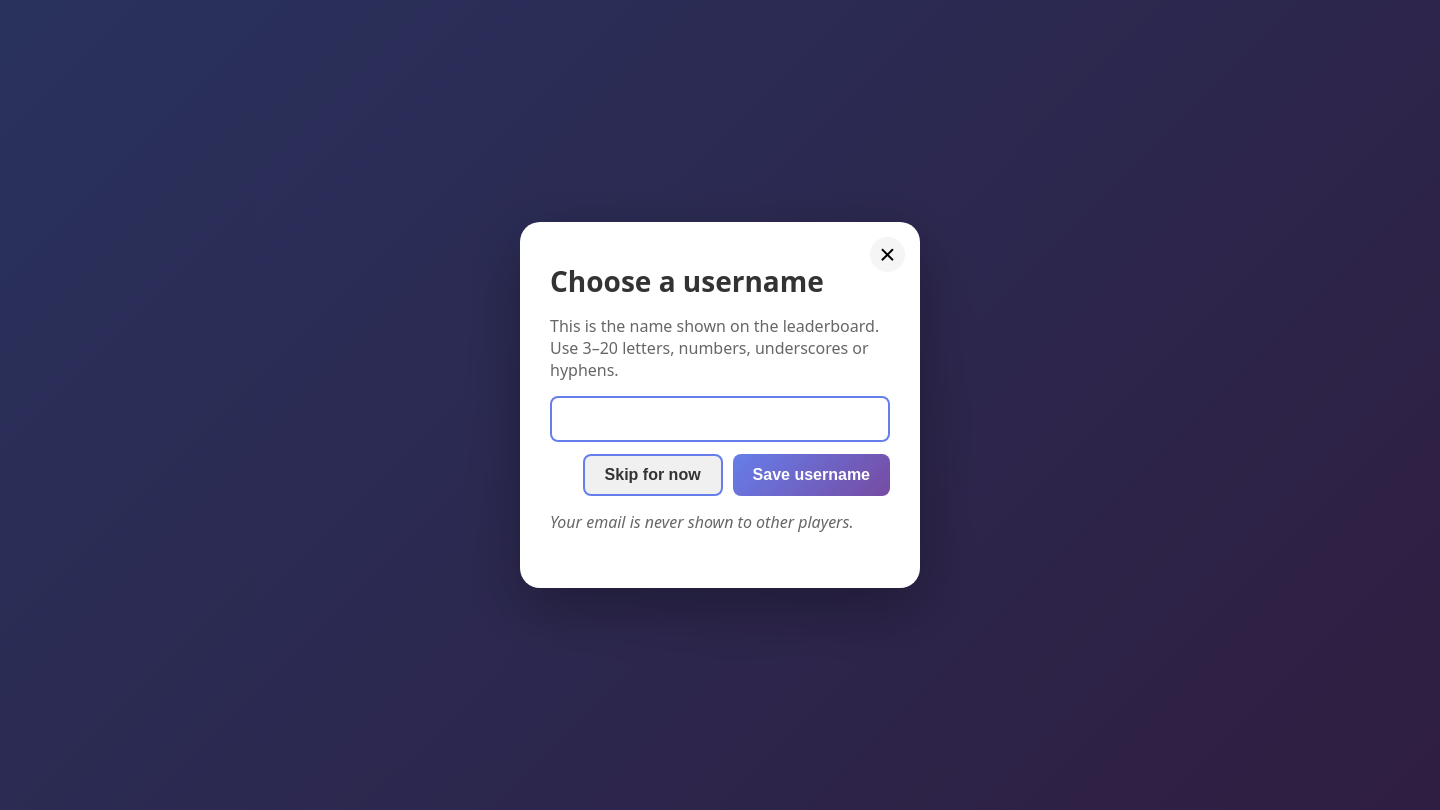
UsernameModal › shows the error from a failed save and keeps the input
The width and height of the screenshot is (1440, 810).
Step 1. Type "Ann_T" into the field named "Username" → (720, 419), box [550, 396, 890, 442]
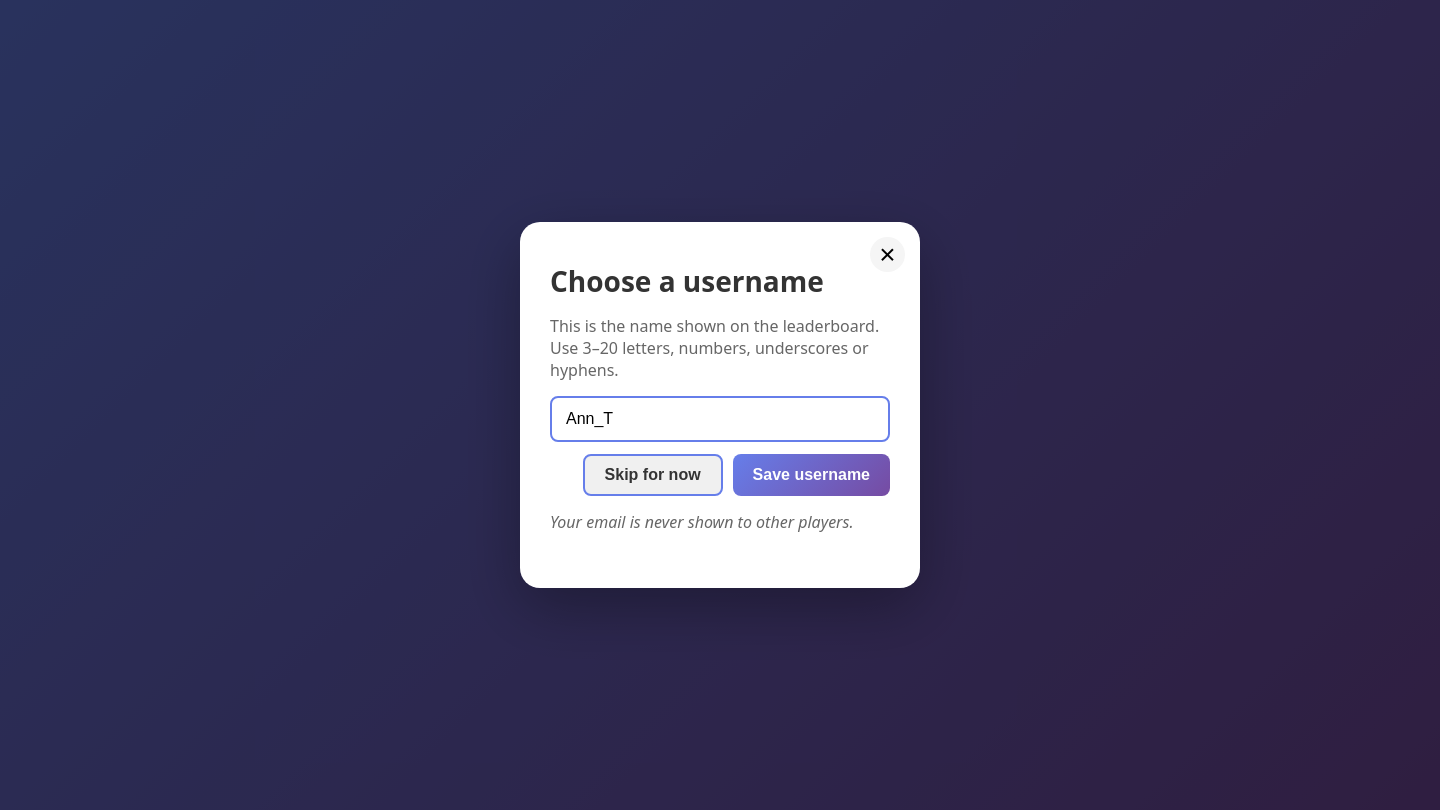
Step 2. Click the button "Save username" → (811, 475), box [733, 454, 890, 496]
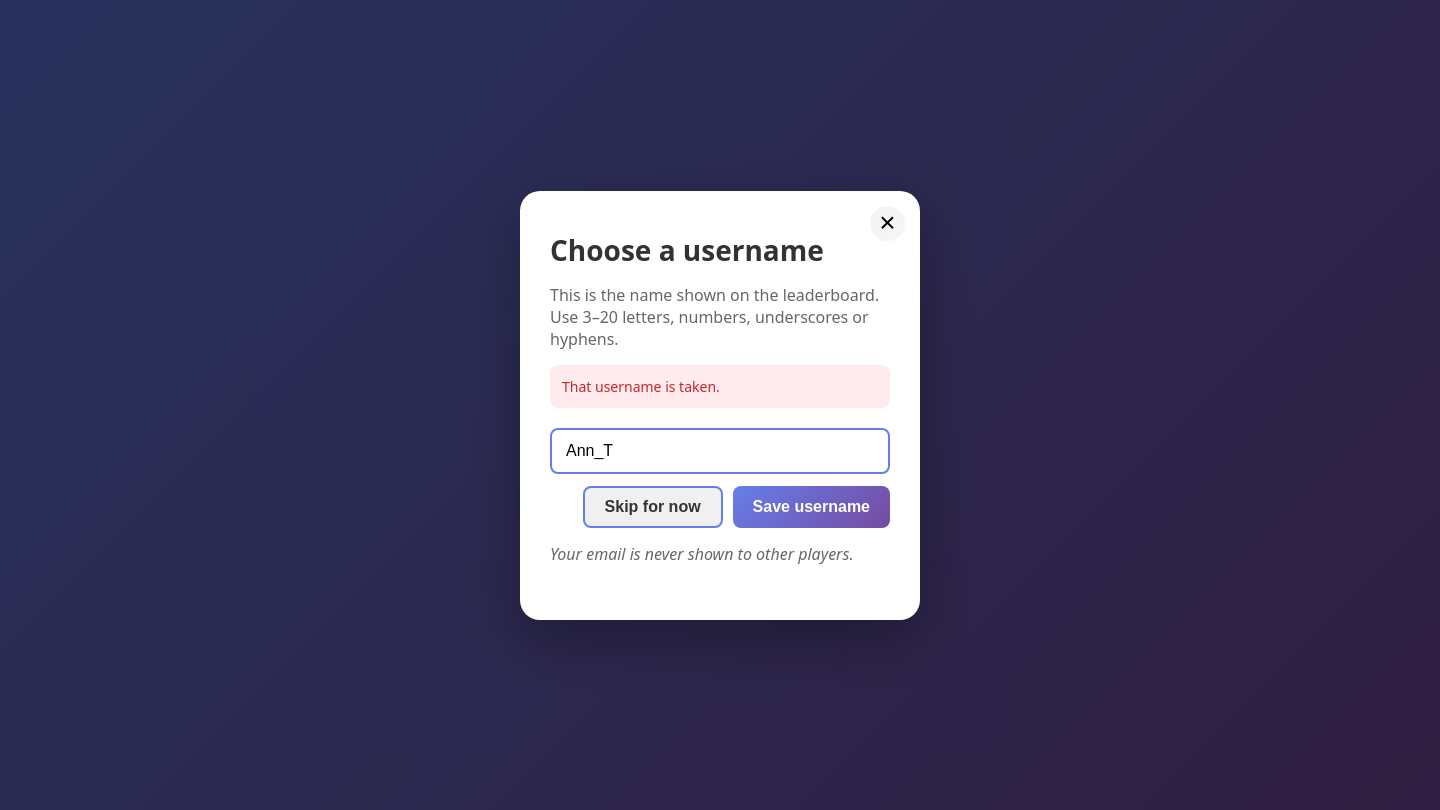
expect the message reads "That username is taken.": met, box [562, 376, 720, 396]
